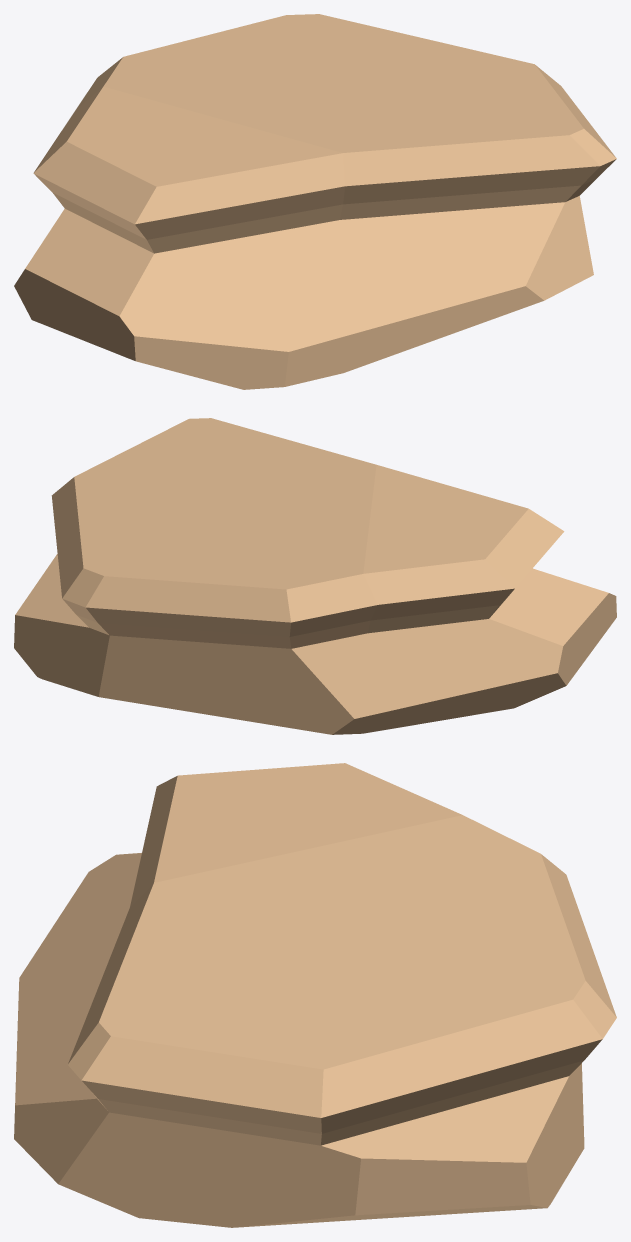
The model's file is Rock_Flat_l_01.fbx.
3 renders of one model, top to bottom at view 1: azimuth 30°, elevation 25°; view 2: azimuth 150°, elevation 25°; view 3: azimuth 270°, elevation 25°, orthographic. The views are drawn at different scales.
Parts seen in each view (by area): view 1: Rock_Flat_l_01; view 2: Rock_Flat_l_01; view 3: Rock_Flat_l_01.
Boxes of the visible parts, bbox=[...] form: Rock_Flat_l_01: bbox=[14, 14, 616, 389]; Rock_Flat_l_01: bbox=[14, 418, 616, 734]; Rock_Flat_l_01: bbox=[14, 763, 616, 1227].
Bounding box in the file's own units: 271 × 78.7 × 211.
